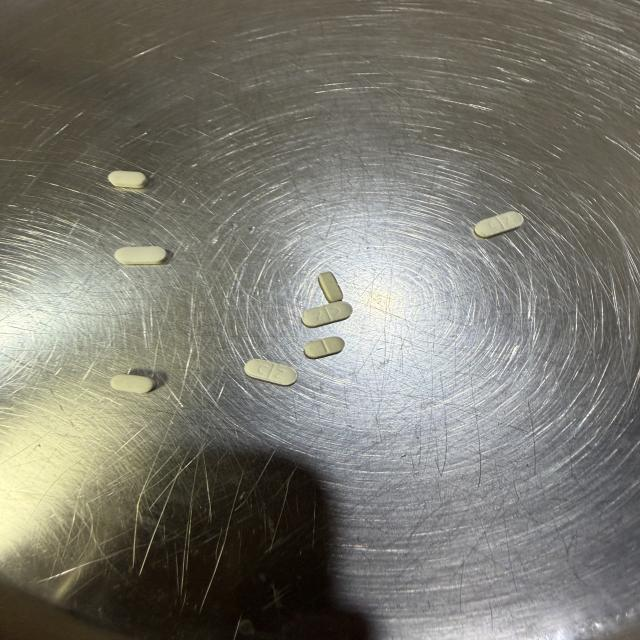pill: (245, 359, 297, 386), (302, 301, 352, 327), (474, 211, 523, 237), (114, 247, 167, 265), (304, 337, 344, 359), (111, 375, 155, 393), (319, 272, 343, 302), (108, 171, 148, 188)
